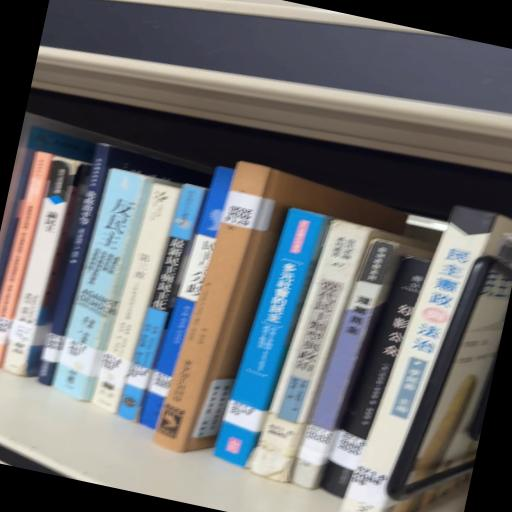reverse: (154, 162, 406, 453)
